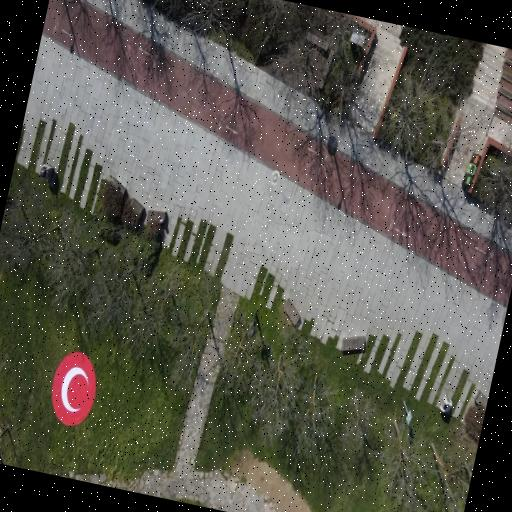UAP: (52, 352, 96, 425)
